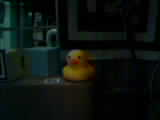duck: (50, 41, 94, 82)
